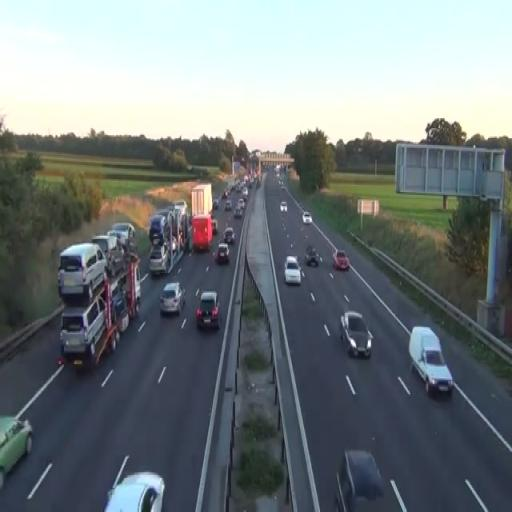Car: (333, 448, 385, 511), (0, 415, 34, 491), (103, 472, 166, 512), (339, 312, 374, 358), (195, 290, 220, 330), (160, 282, 186, 316), (284, 256, 301, 286), (332, 250, 350, 271), (215, 242, 231, 264), (222, 226, 236, 245)
Truck: (59, 234, 142, 370), (408, 326, 454, 398), (58, 242, 106, 306), (148, 201, 188, 277), (191, 183, 213, 251)
